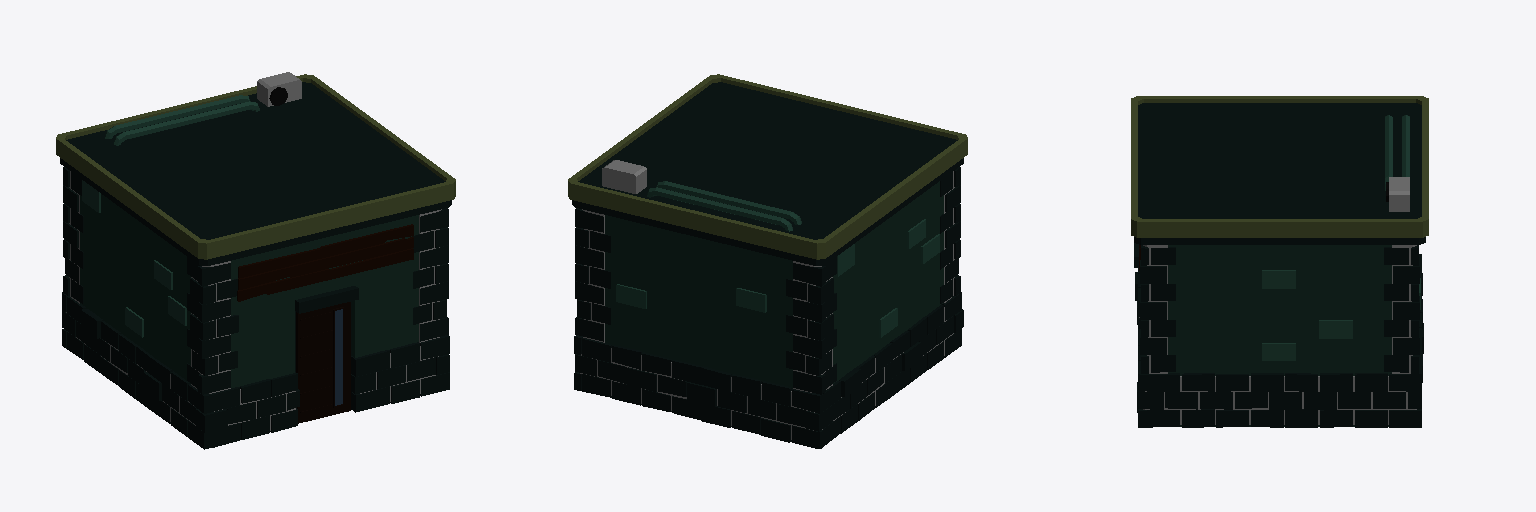
Rendered from 1Story_Sign_Mat.obj.
3 renders of one model, left to right at view 1: azimuth 30°, elevation 25°; view 2: azimuth 150°, elevation 25°; view 3: azimuth 270°, elevation 25°, orthographic.
Visible parts, largest first — view 1: 1Story_Sign_Mat_Cube.039; view 2: 1Story_Sign_Mat_Cube.039; view 3: 1Story_Sign_Mat_Cube.039.
Part boxes in pixels (x1,y1,x2,y2): 1Story_Sign_Mat_Cube.039: (56, 72, 455, 449); 1Story_Sign_Mat_Cube.039: (568, 74, 967, 448); 1Story_Sign_Mat_Cube.039: (1131, 96, 1428, 427).
Size of the model in its own units: 2.15 by 1.79 by 2.15.